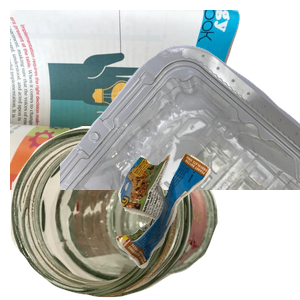glass: (10, 126, 220, 300)
paper: (10, 10, 250, 190)
plastic: (60, 43, 300, 223)
trash: (114, 151, 300, 300)
